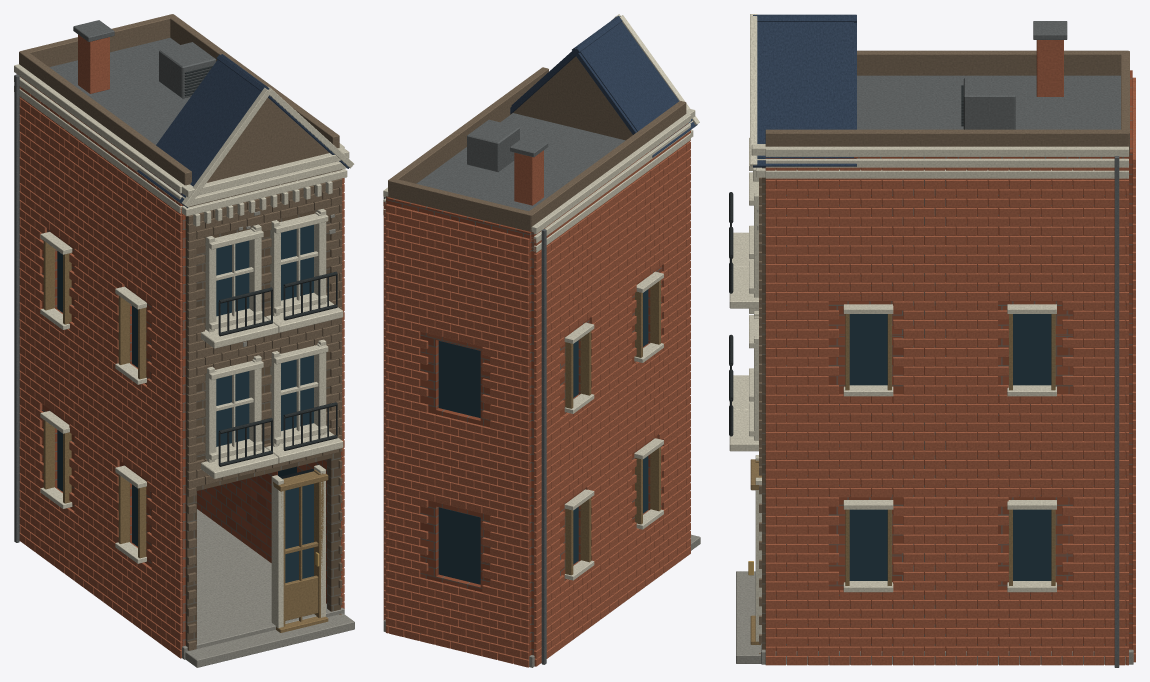
File: VICT29_lod0.glb
3 views of the same model, side by side, from view 1: azimuth 30°, elevation 25°; view 2: azimuth 150°, elevation 25°; view 3: azimuth 270°, elevation 25° (orthographic). The views are drawn at different scales.
Parts seen in each view (by area): view 1: VICT29_LOD0; view 2: VICT29_LOD0; view 3: VICT29_LOD0.
Boxes of the visible parts, <box> form: VICT29_LOD0: <box>14,14,354,667</box>; VICT29_LOD0: <box>383,14,700,667</box>; VICT29_LOD0: <box>729,14,1135,667</box>.
Size of the model in its own units: 3.71 by 11.05 by 6.72.
Materials: 17 (14 with a texture image).
